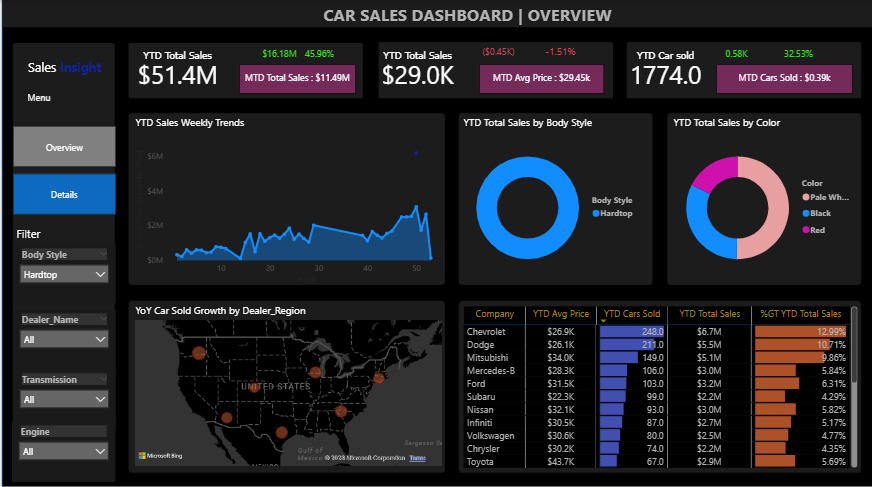

The page's visual inventory and layout, read from the dashboard file:
{"tool":"powerbi","page":{"name":"Overview","canvas":[1280,720],"ordinal":0},"visuals":[{"type":"card","title":"YTD Total Sales","fields":{"Values":["car_data.YTD Total Sales"]},"box":[170.4,72,180.7,57.3],"z":0},{"type":"card","fields":{"Values":["car_data.Sales Difference"]},"box":[318.9,45.6,183.7,70.5],"z":1000},{"type":"card","fields":{"Values":["car_data.YoY Sales Growth"]},"box":[383.5,45.6,171.9,70.5],"z":2000},{"type":"card","fields":{"Values":["car_data.MTD KPI"]},"box":[351.2,94,171.9,44.1],"z":3000},{"type":"card","title":"YTD Total Sales","fields":{"Values":["car_data.YTD Avg Price"]},"box":[523.1,72,180.7,57.3],"z":4000},{"type":"card","fields":{"Values":["car_data.Avg Price Diff"]},"box":[640.7,42.6,183.7,70.5],"z":5000},{"type":"card","fields":{"Values":["car_data.YoY Avg P price Growth"]},"box":[731.8,42.6,183.7,70.5],"z":6000},{"type":"card","fields":{"Values":["car_data.MTD Avg Price KPI"]},"box":[703.8,94,183.7,44.1],"z":7000},{"type":"card","title":"YTD Car sold","fields":{"Values":["car_data.YTD Cars Sold"]},"box":[887.5,72,180.7,57.3],"z":8000},{"type":"card","fields":{"Values":["car_data.Cars Sold Diff"]},"box":[990.4,45.6,183.7,70.5],"z":9000},{"type":"card","fields":{"Values":["car_data.YoY Car Sold Growth"]},"box":[1081.5,45.6,183.7,70.5],"z":10000},{"type":"card","fields":{"Values":["car_data.MTD Cars Sold KPI"]},"box":[1052.1,94,201.3,44.1],"z":11000},{"type":"stackedAreaChart","title":"YTD Sales Weekly Trends","fields":{"Category":["Calendar Table.Week"],"Y":["Sum(car_data.Price ($))","car_data.Max Point"]},"box":[194,169,461.4,252.7],"z":12000},{"type":"donutChart","fields":{"Category":["car_data.Body Style"],"Y":["car_data.YTD Total Sales"]},"box":[675.9,169,280.7,252.7],"z":13000},{"type":"donutChart","fields":{"Y":["car_data.YTD Total Sales"],"Category":["car_data.Color"]},"box":[984.5,169,280.7,252.7],"z":14000},{"type":"tableEx","fields":{"Values":["car_data.Company","car_data.YTD Avg Price","car_data.YTD Cars Sold","car_data.YTD Total Sales1","car_data.YTD Total Sales"]},"box":[675.9,445.2,589.2,246.9],"z":15000},{"type":"textbox","box":[470.2,0,490.8,45.6],"z":16000},{"type":"slicer","fields":{"Values":["car_data.Body Style"]},"box":[19.1,360,151.3,85.2],"z":17000},{"type":"slicer","fields":{"Values":["car_data.Dealer_Name"]},"box":[19.1,455.5,151.3,88.2],"z":18000},{"type":"slicer","fields":{"Values":["car_data.Transmission"]},"box":[19.1,543.7,151.3,88.2],"z":19000},{"type":"slicer","fields":{"Values":["car_data.Engine"]},"box":[16.9,620,152.3,87.7],"z":20000},{"type":"textbox","box":[19.1,80.8,151.3,57.3],"z":21000},{"type":"textbox","box":[19.1,129.3,76.4,52.9],"z":22000},{"type":"pageNavigator","box":[19.1,185.1,151.3,130.8],"z":23000},{"type":"map","fields":{"Category":["car_data.Dealer_Region"],"Size":["car_data.YoY Car Sold Growth"]},"box":[194,445.2,461.4,243.9],"z":24000},{"type":"textbox","box":[19.1,327.7,94,32.3],"z":25000}]}

Visuals, with their boxes on the page's 1280x720 design canvas (x1, y1, x2, y2). These are canvas units, not pixel positions in the 872x487 screenshot, which may show the page scaled, cropped or inside an application window:
"YTD Total Sales" card: [170,72,351,129]
card - car_data.Sales Difference: [319,46,503,116]
card - car_data.YoY Sales Growth: [384,46,555,116]
card - car_data.MTD KPI: [351,94,523,138]
"YTD Total Sales" card: [523,72,704,129]
card - car_data.Avg Price Diff: [641,43,824,113]
card - car_data.YoY Avg P price Growth: [732,43,916,113]
card - car_data.MTD Avg Price KPI: [704,94,888,138]
"YTD Car sold" card: [888,72,1068,129]
card - car_data.Cars Sold Diff: [990,46,1174,116]
card - car_data.YoY Car Sold Growth: [1082,46,1265,116]
card - car_data.MTD Cars Sold KPI: [1052,94,1253,138]
"YTD Sales Weekly Trends" stackedAreaChart: [194,169,655,422]
donutChart - car_data.Body Style x car_data.YTD Total Sales: [676,169,957,422]
donutChart - car_data.YTD Total Sales x car_data.Color: [984,169,1265,422]
tableEx - car_data.Company x car_data.YTD Avg Price: [676,445,1265,692]
textbox: [470,0,961,46]
slicer - car_data.Body Style: [19,360,170,445]
slicer - car_data.Dealer_Name: [19,456,170,544]
slicer - car_data.Transmission: [19,544,170,632]
slicer - car_data.Engine: [17,620,169,708]
textbox: [19,81,170,138]
textbox: [19,129,96,182]
pageNavigator: [19,185,170,316]
map - car_data.Dealer_Region x car_data.YoY Car Sold Growth: [194,445,655,689]
textbox: [19,328,113,360]
